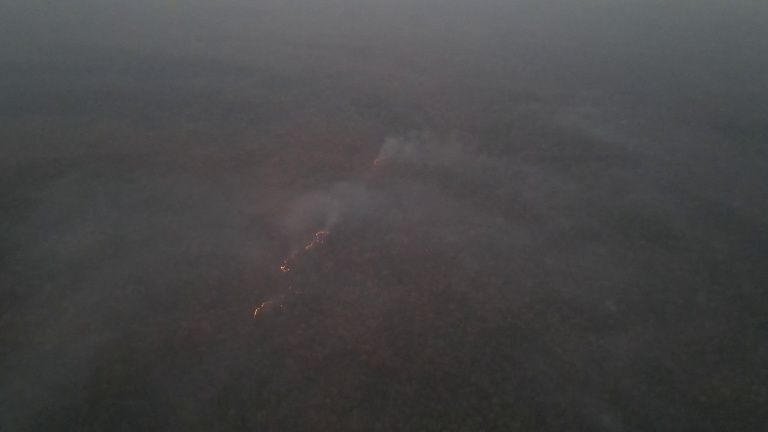fire: (275, 222, 334, 274), (249, 295, 276, 320), (367, 155, 378, 169)
smoke: (284, 180, 417, 231)
